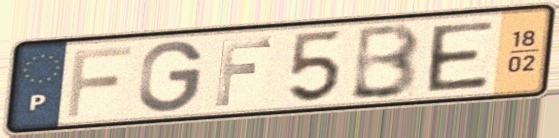5: (287, 28, 344, 104)
B: (346, 20, 424, 102)
E: (425, 18, 497, 94)
F: (63, 43, 135, 120), (212, 34, 275, 109)
G: (135, 38, 207, 115)
